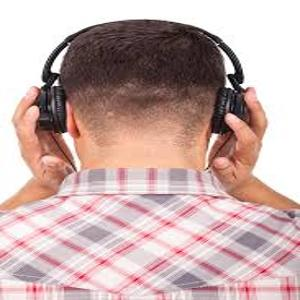Headphones: (37, 17, 245, 135)
